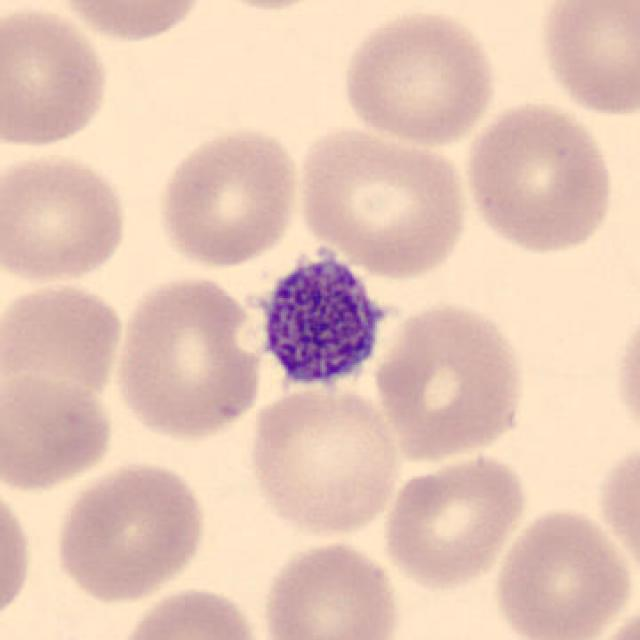Platelets: (244, 238, 400, 405)
RBC: (291, 122, 473, 280), (110, 270, 268, 444), (370, 296, 530, 466), (244, 381, 404, 539), (461, 99, 618, 257), (50, 456, 210, 606), (336, 5, 501, 148), (153, 121, 304, 272), (378, 450, 532, 590), (489, 502, 635, 640), (0, 146, 133, 287), (0, 2, 114, 153), (0, 277, 128, 398), (258, 536, 405, 640), (0, 366, 119, 494), (533, 0, 640, 120), (112, 582, 270, 640), (50, 0, 210, 46), (594, 432, 638, 587), (0, 471, 36, 633), (610, 298, 640, 450), (583, 599, 640, 640), (188, 0, 345, 14)
